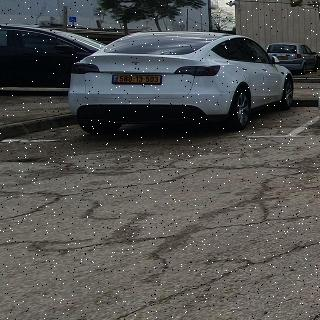LicensePlate: (118, 76, 160, 83)
